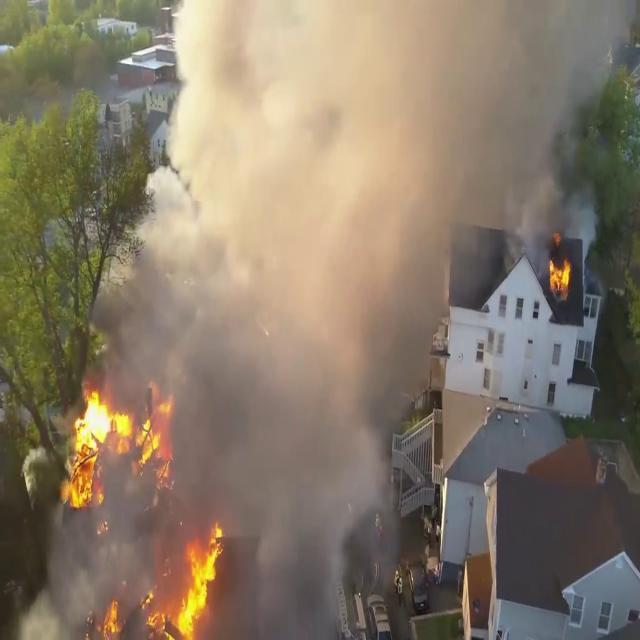Fire: (56, 384, 176, 512), (138, 524, 230, 639), (546, 248, 574, 300)
Smoke: (73, 0, 417, 628), (150, 0, 630, 245)
